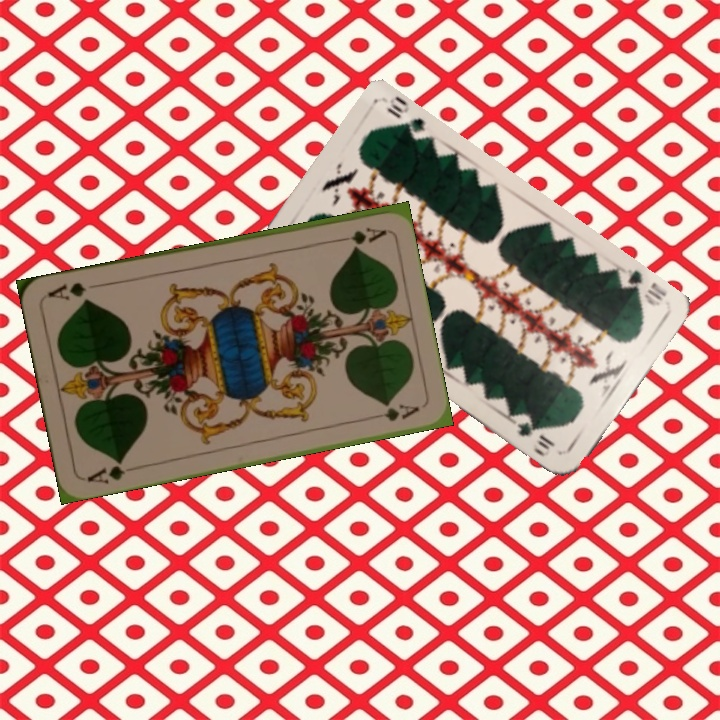G10: (614, 265, 669, 309)
GA: (83, 456, 127, 487), (329, 223, 388, 246)
